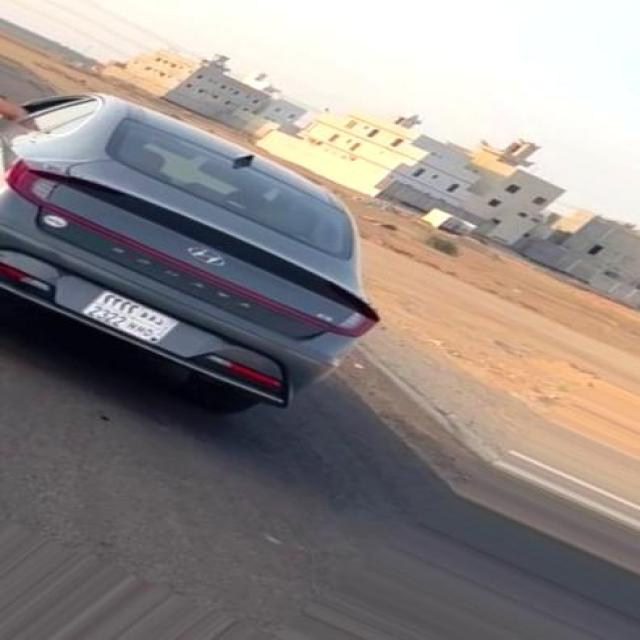Car-plate: (74, 263, 197, 354)
